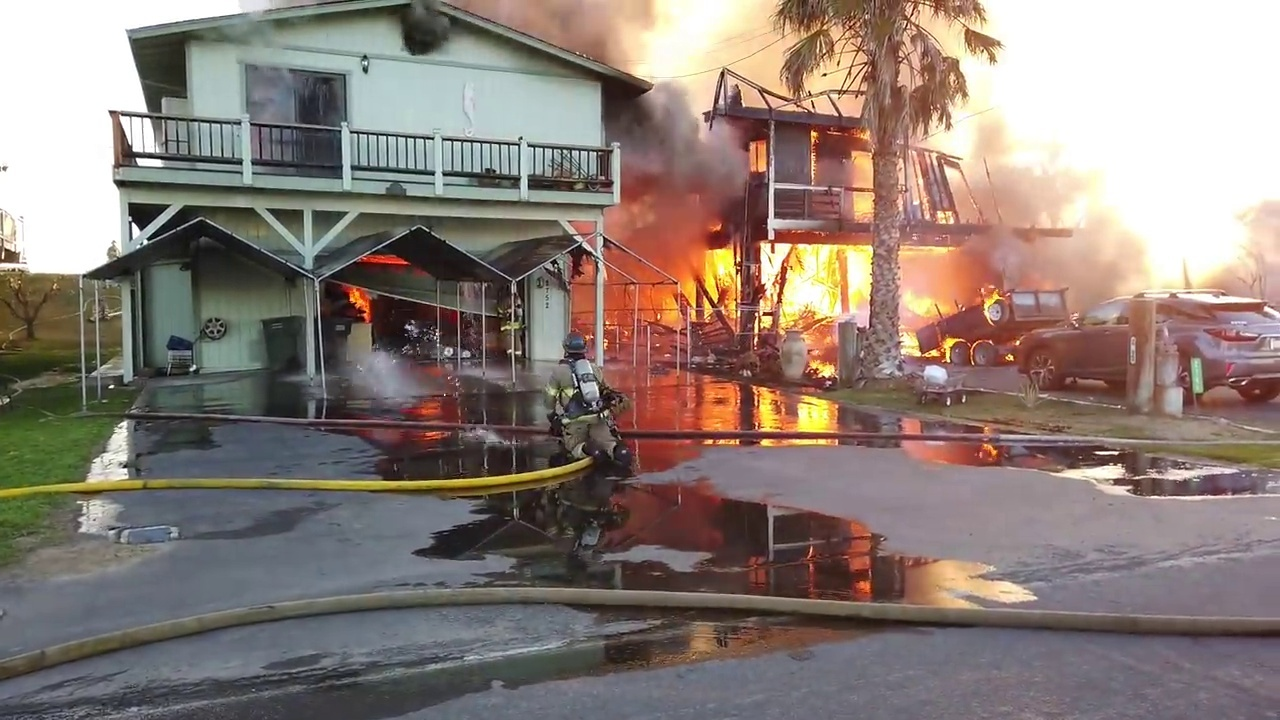fire: (662, 226, 869, 433), (904, 0, 996, 211), (1120, 179, 1242, 290), (900, 274, 1015, 362), (633, 0, 755, 54), (752, 386, 836, 433), (845, 132, 879, 221), (338, 282, 374, 323), (1090, 301, 1124, 321), (808, 355, 837, 378)
smoke: (607, 54, 755, 250), (338, 334, 426, 414)
